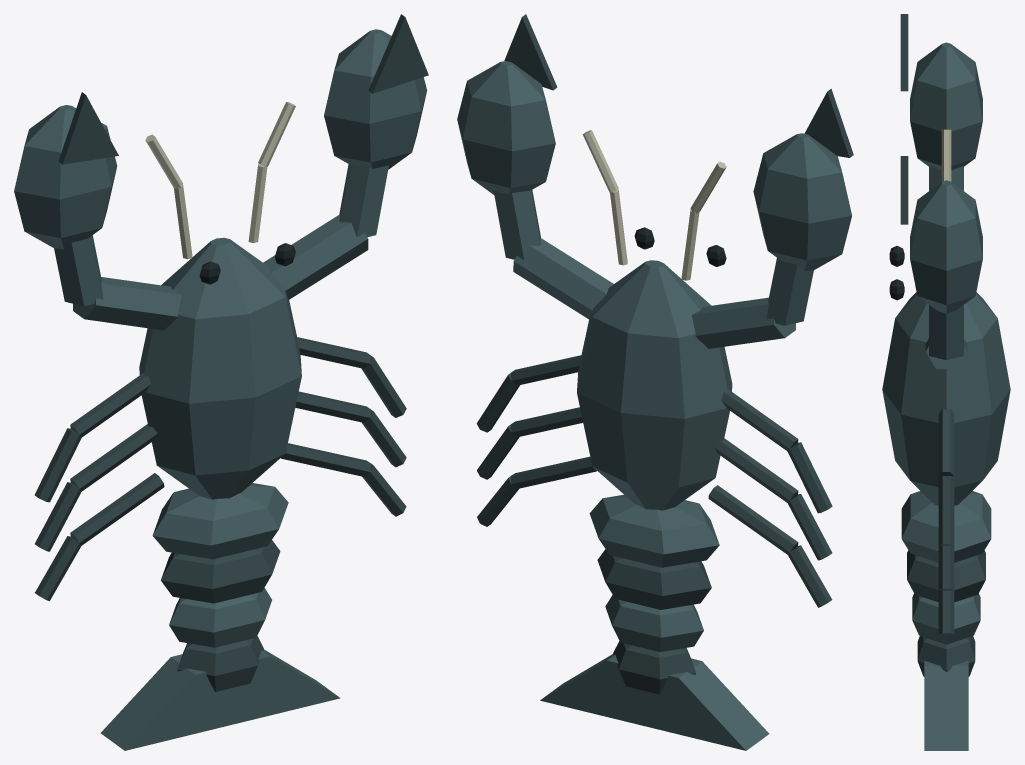
The model's file is rawLobster.glb.
3 views of the same model, side by side, from view 1: azimuth 30°, elevation 25°; view 2: azimuth 150°, elevation 25°; view 3: azimuth 270°, elevation 25° (orthographic). The views are drawn at different scales.
Visible parts, largest first — view 1: rawLobster; view 2: rawLobster; view 3: rawLobster.
Boxes of the visible parts, x1=… form: rawLobster: x1=14, y1=14, x2=428, y2=750; rawLobster: x1=457, y1=14, x2=853, y2=750; rawLobster: x1=882, y1=14, x2=1010, y2=750.
Size of the model in its own units: 0.6377 by 1 by 0.1884.
